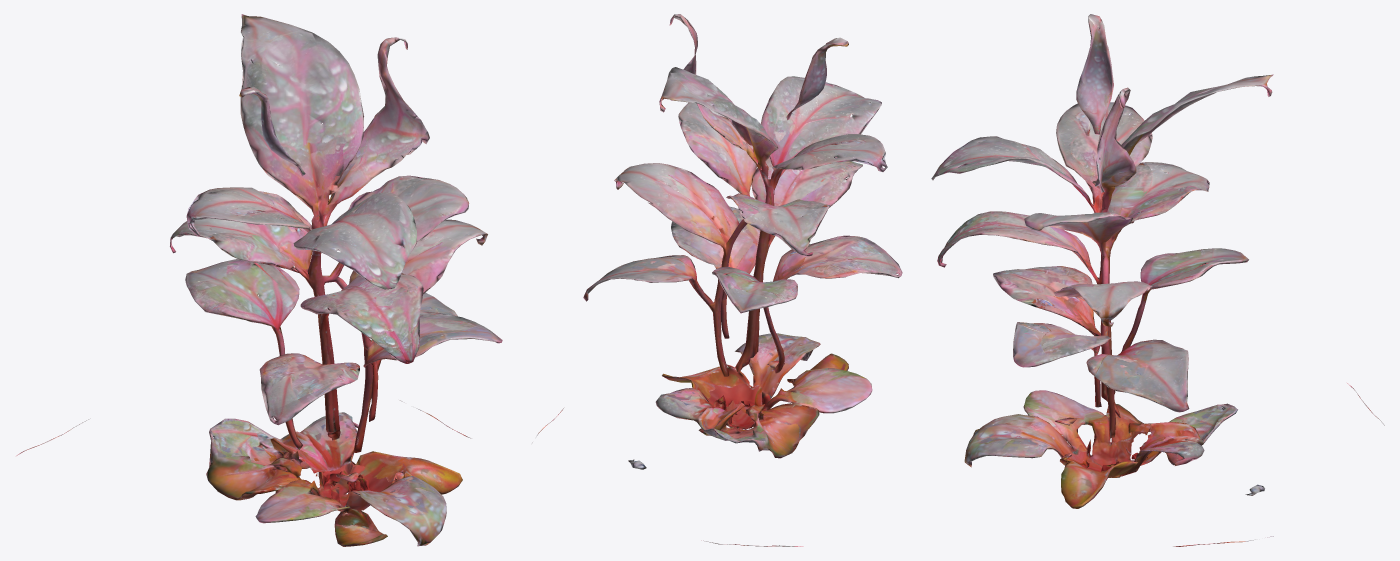
The picture shows the model from 3 angles, left to right: view 1: azimuth 30°, elevation 25°; view 2: azimuth 150°, elevation 25°; view 3: azimuth 270°, elevation 25°; orthographic projection. The views are drawn at different scales.
Bounding box in the file's own units: 1.3 × 1.53 × 1.52.
1 material, 1 textured.
